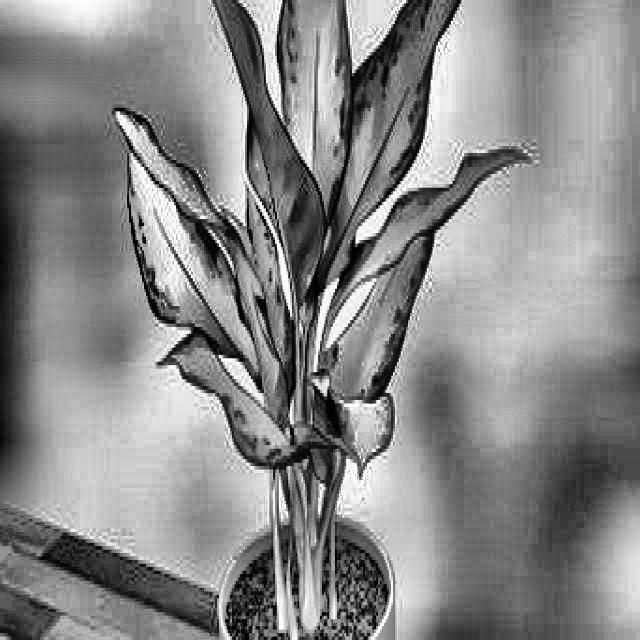plants: (122, 9, 514, 640)
